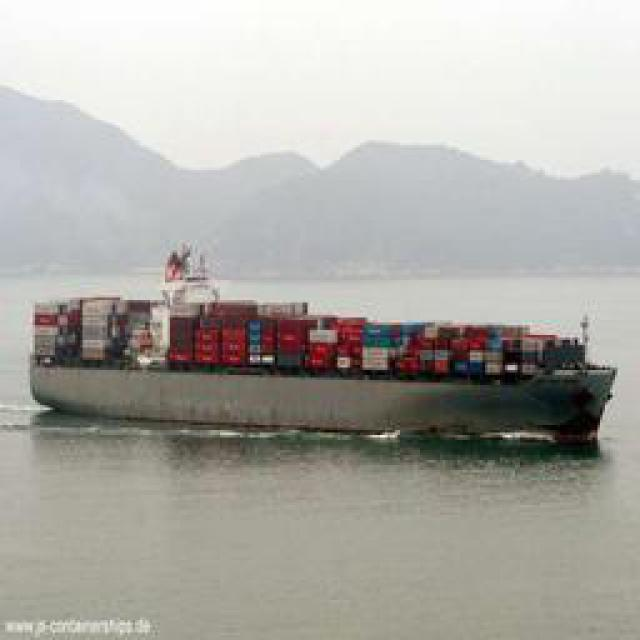Ship: (17, 281, 620, 444)
